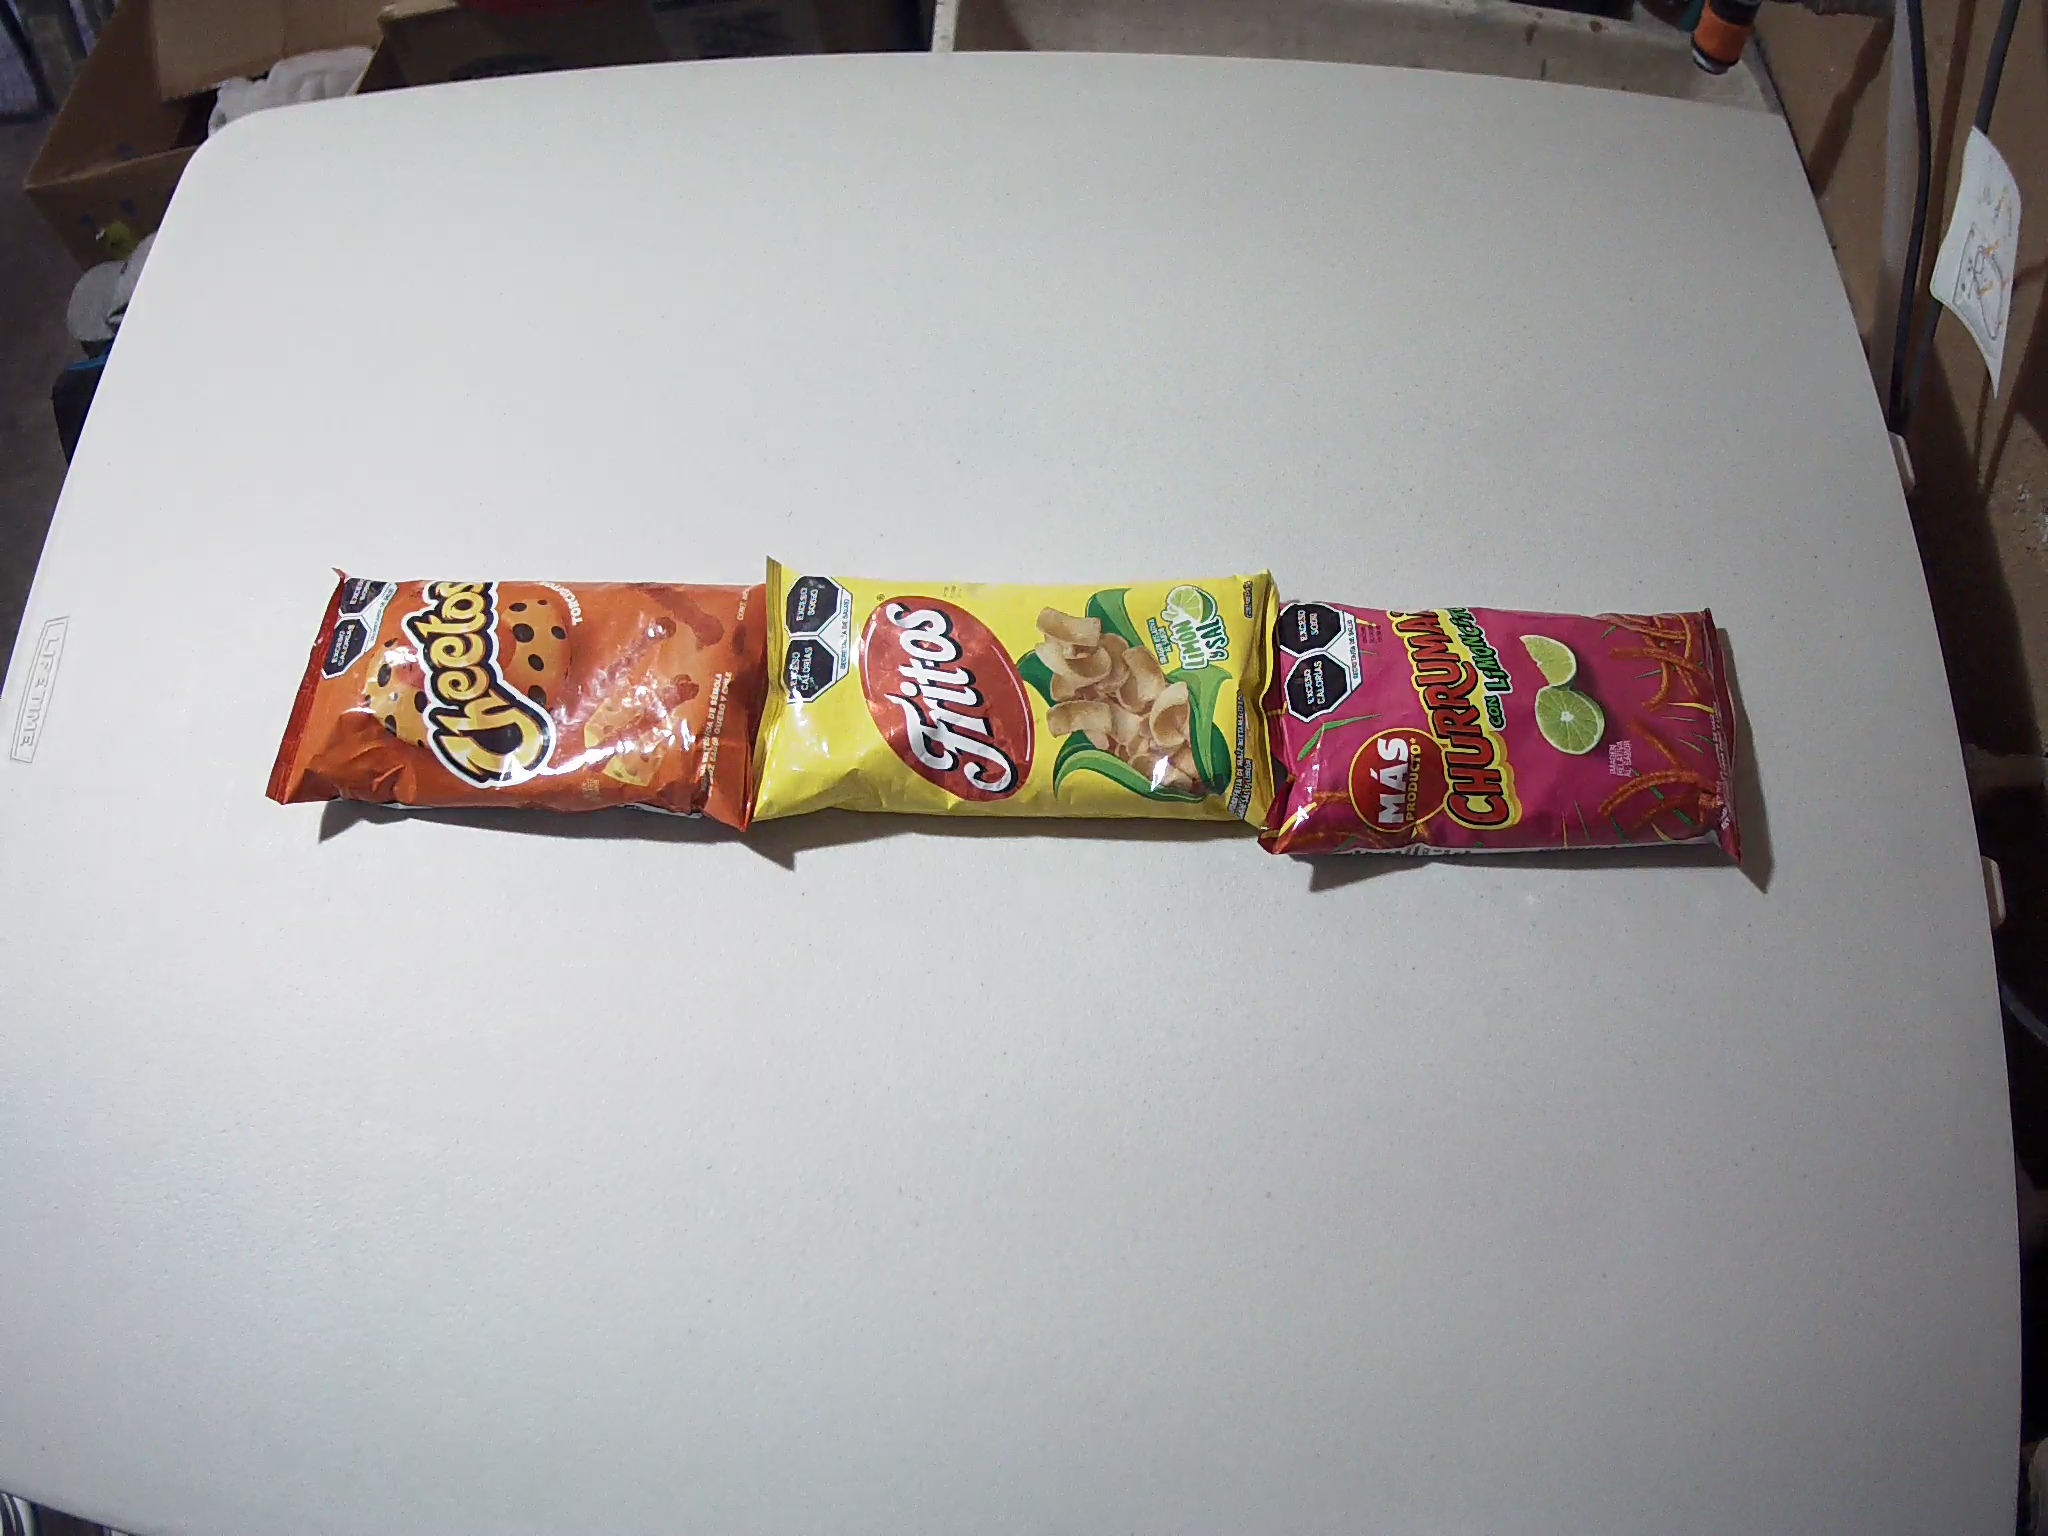CheetosTorciditos_55_F: (264, 565, 785, 836)
Churrumais_70_F: (1256, 600, 1745, 874)
FritosSalLimon_65_F: (745, 557, 1284, 842)
